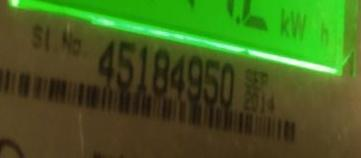.: (279, 7, 334, 46)
